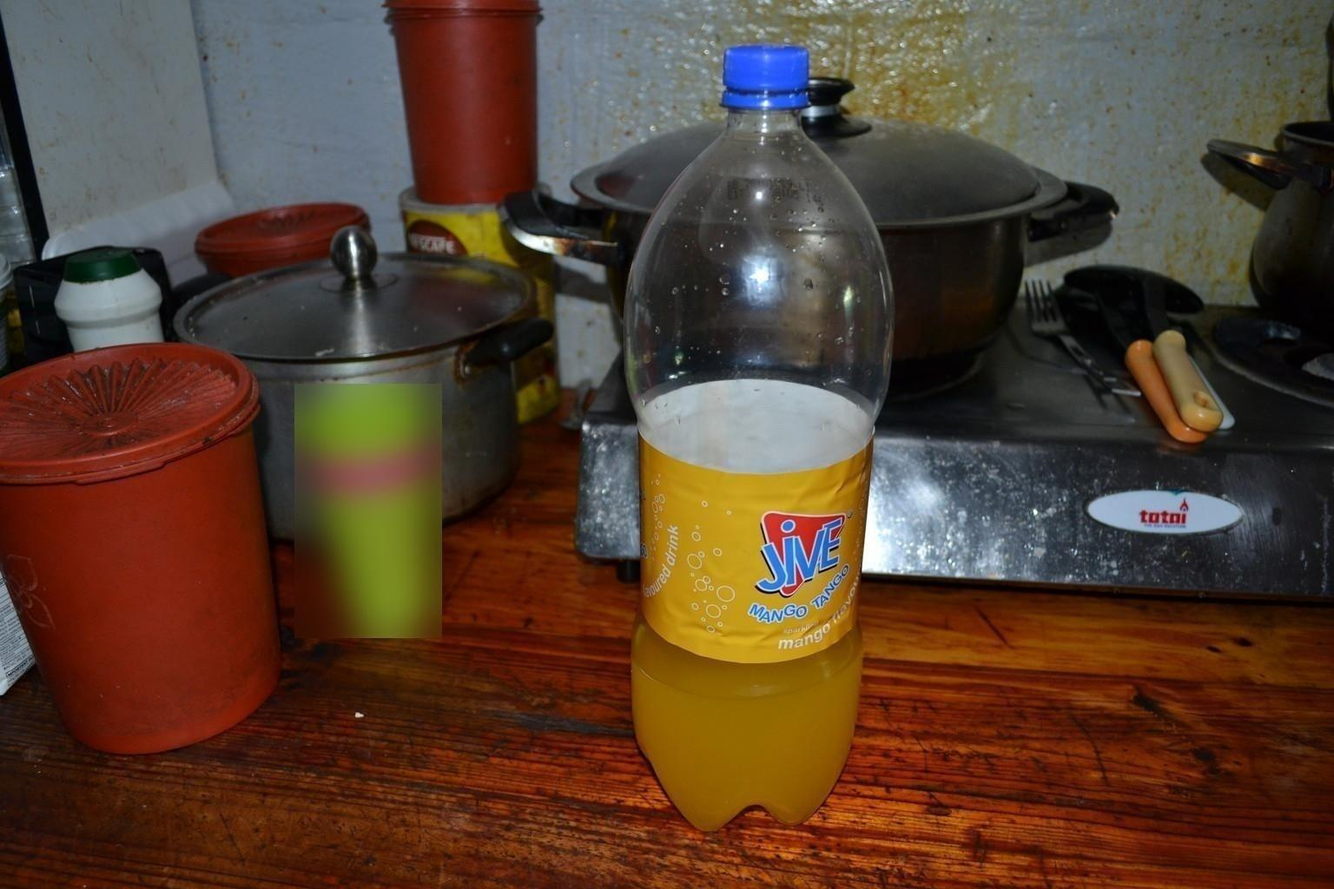bottle-plastic: (614, 38, 898, 840)
